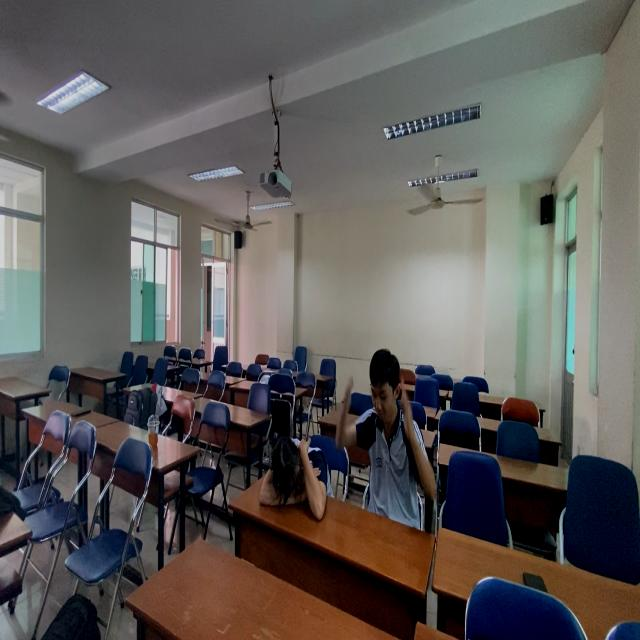sleep: (255, 433, 336, 524)
